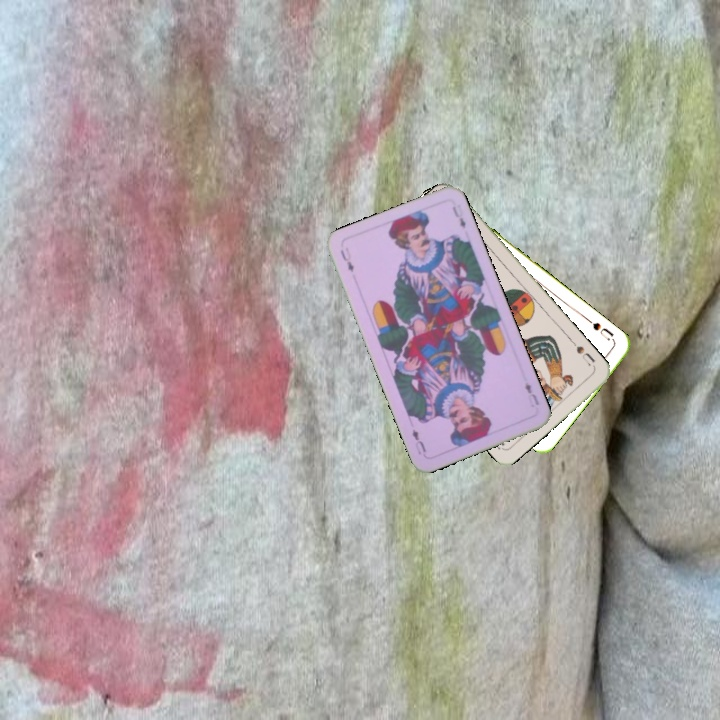EU: (521, 378, 542, 408), (336, 243, 356, 274)
SU: (583, 314, 617, 344), (568, 337, 598, 369)
